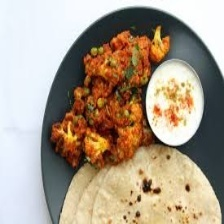roti: (56, 139, 224, 224)
